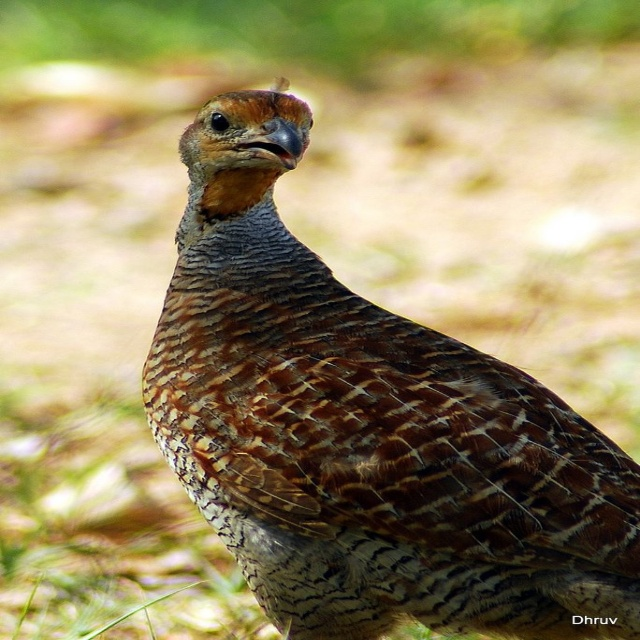Turkey: (142, 76, 640, 640)
